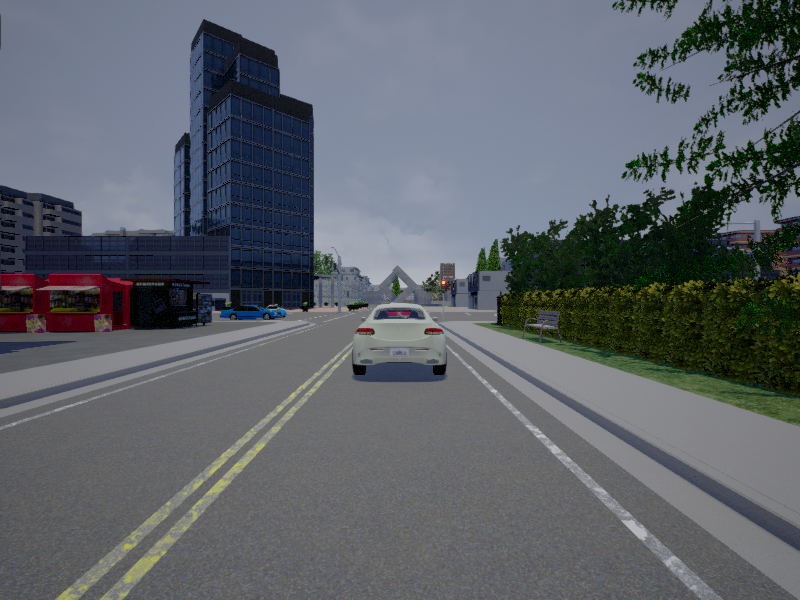Benign: (354, 303, 447, 378), (222, 302, 283, 320)
